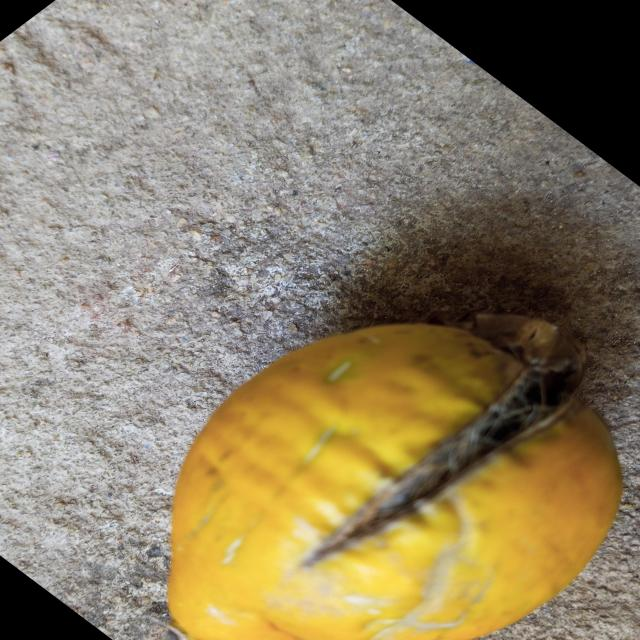damaged: (168, 315, 622, 640)
